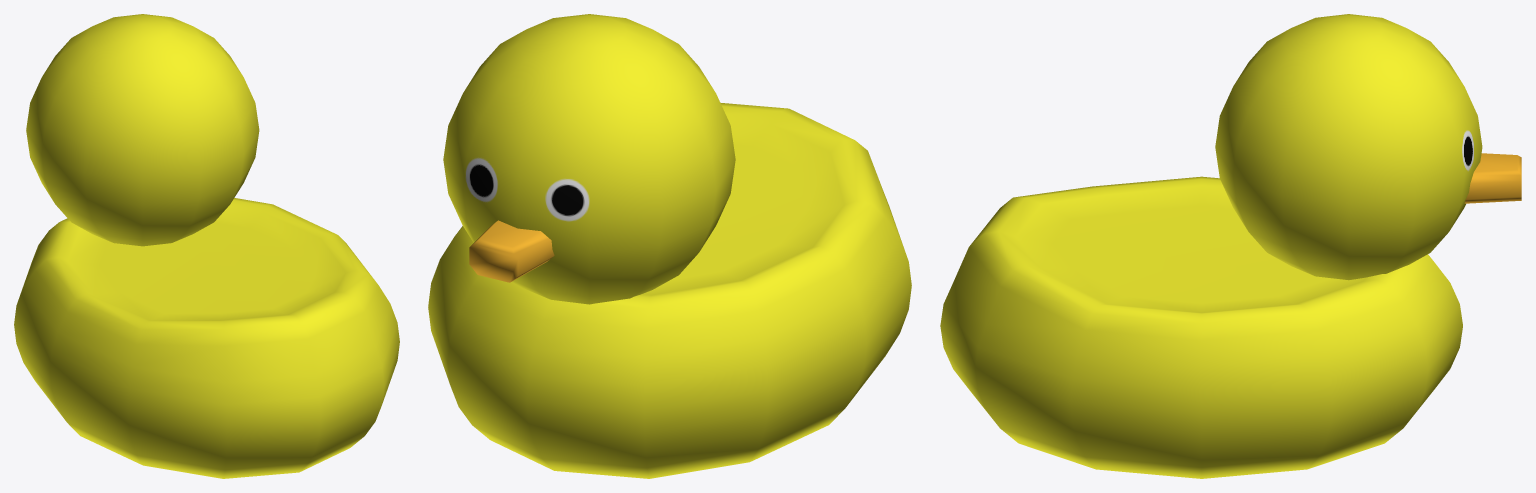
Rendered from rubber duck.fbx.
The picture shows the model from 3 angles, left to right: view 1: azimuth 30°, elevation 25°; view 2: azimuth 150°, elevation 25°; view 3: azimuth 270°, elevation 25°; orthographic projection. The views are drawn at different scales.
Parts seen in each view (by area): view 1: rubber_duck; view 2: rubber_duck; view 3: rubber_duck.
Boxes of the visible parts, x1,y1,x2,y2 form: rubber_duck: [14, 14, 399, 478]; rubber_duck: [428, 14, 911, 478]; rubber_duck: [940, 14, 1521, 478].
Size of the model in its own units: 5.62 by 5.71 by 7.88.
Materials: 1 (1 with a texture image).
